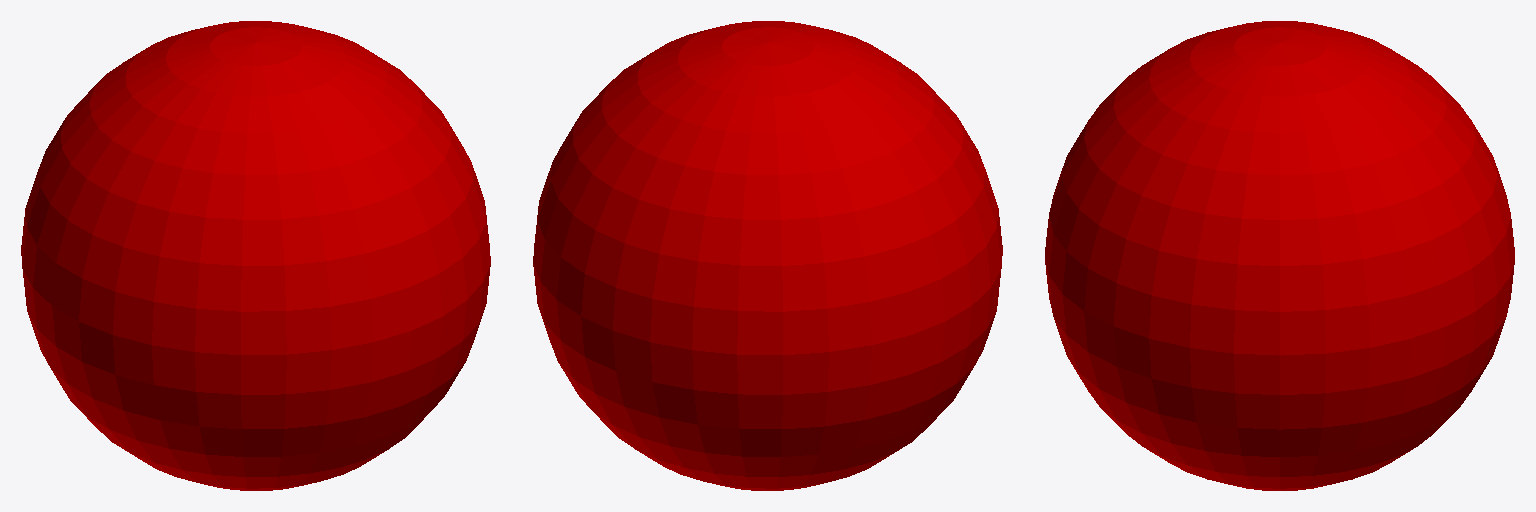
File: shot.obj
3 views of the same model, side by side, from view 1: azimuth 30°, elevation 25°; view 2: azimuth 150°, elevation 25°; view 3: azimuth 270°, elevation 25° (orthographic).
Visible parts, largest first — view 1: Sphere.001; view 2: Sphere.001; view 3: Sphere.001.
Part boxes in pixels (x1,y1,x2,y2): Sphere.001: (21, 21, 490, 490); Sphere.001: (533, 21, 1002, 490); Sphere.001: (1045, 21, 1514, 490).
Bounding box in the file's own units: 0.3 × 0.3 × 0.3.